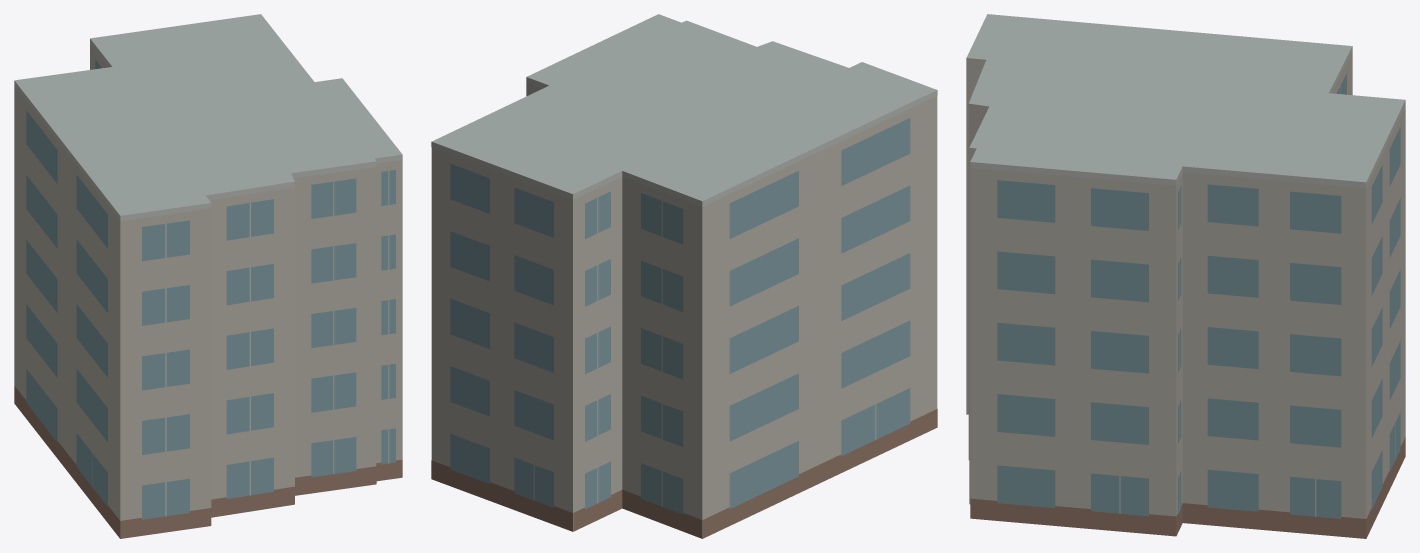
File: survey-upis-32989495.glb
3 views of the same model, side by side, from view 1: azimuth 30°, elevation 25°; view 2: azimuth 150°, elevation 25°; view 3: azimuth 270°, elevation 25° (orthographic). The views are drawn at different scales.
Parts seen in each view (by area): view 1: survey-upis-32989495.tmp; view 2: survey-upis-32989495.tmp; view 3: survey-upis-32989495.tmp.
Boxes of the visible parts, left/top/right/bottom form: survey-upis-32989495.tmp: left=14, top=14, right=402, bottom=538; survey-upis-32989495.tmp: left=431, top=14, right=937, bottom=538; survey-upis-32989495.tmp: left=966, top=14, right=1405, bottom=538.
Size of the model in its own units: 14.79 by 14.6 by 16.31.
